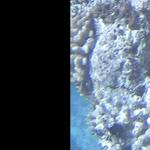alive: (74, 7, 148, 148)
